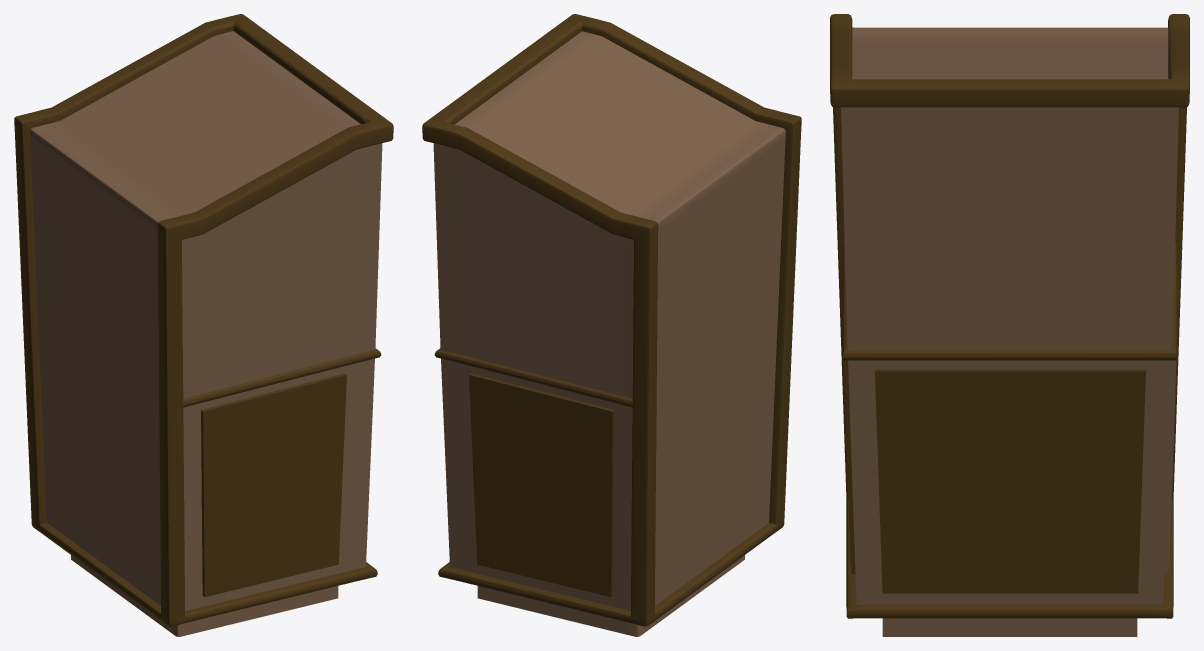
The model's file is Lecturn.fbx.
3 renders of one model, left to right at view 1: azimuth 30°, elevation 25°; view 2: azimuth 150°, elevation 25°; view 3: azimuth 270°, elevation 25°, orthographic. The views are drawn at different scales.
Visible parts, largest first — view 1: Lecturn; view 2: Lecturn; view 3: Lecturn.
Part boxes in pixels (x1=…): Lecturn: x1=14, y1=14, x2=393, y2=636; Lecturn: x1=422, y1=14, x2=801, y2=636; Lecturn: x1=830, y1=14, x2=1189, y2=636.
Bounding box in the file's own units: 3.04 × 6.11 × 3.51.
